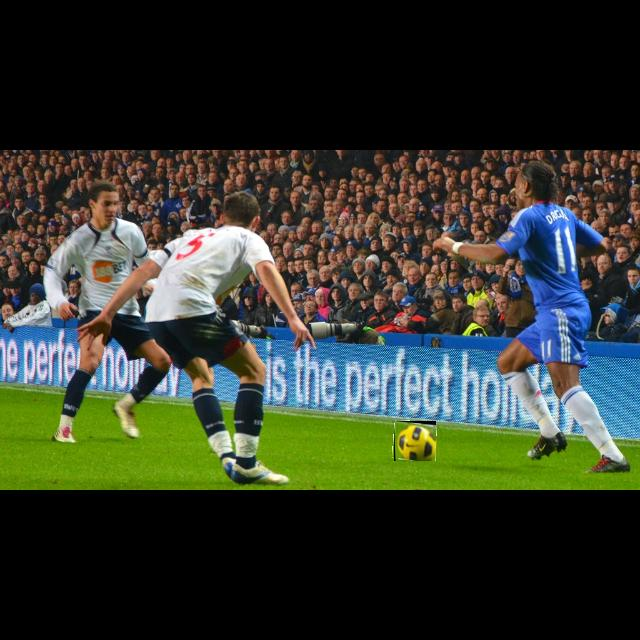Football: (394, 421, 436, 461)
